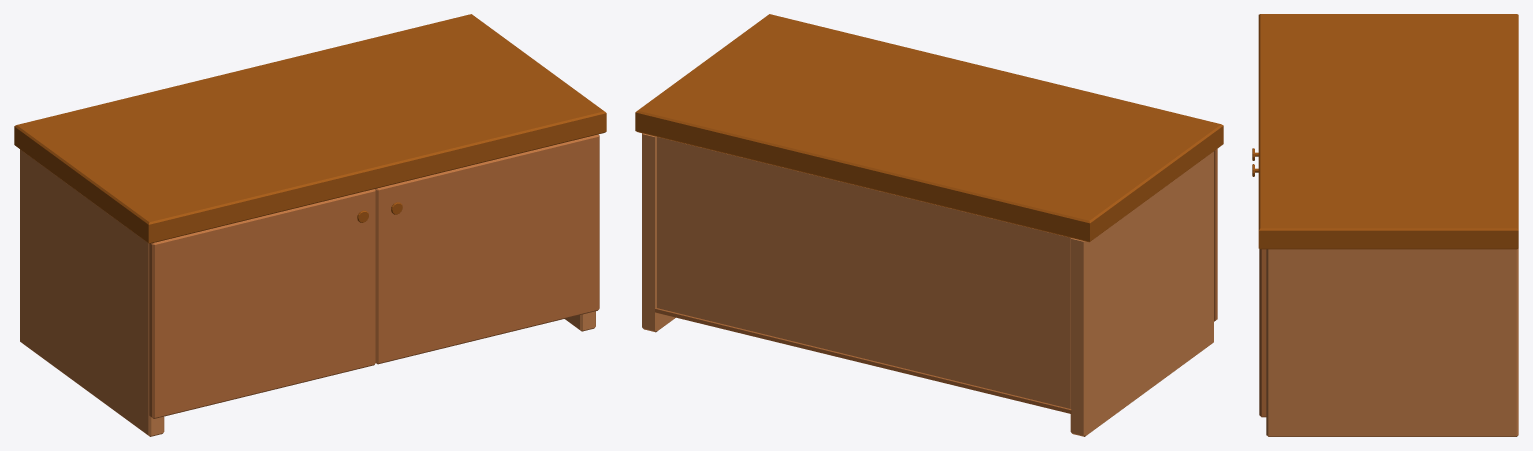
Rendered from DoubleCupboard.glb.
3 renders of one model, left to right at view 1: azimuth 30°, elevation 25°; view 2: azimuth 150°, elevation 25°; view 3: azimuth 270°, elevation 25°, orthographic. The views are drawn at different scales.
Visible parts, largest first — view 1: DoubleCupboard, CupboardDoorL, CupboardDoorR; view 2: DoubleCupboard, CupboardDoorL; view 3: DoubleCupboard, CupboardDoorR.
Part boxes in pixels (box(x1,y1,x2,y2)): DoubleCupboard: box(14, 14, 606, 436); CupboardDoorL: box(149, 189, 375, 418); CupboardDoorR: box(375, 134, 599, 364); DoubleCupboard: box(635, 14, 1223, 436); CupboardDoorL: box(1214, 149, 1217, 321); DoubleCupboard: box(1258, 14, 1518, 436); CupboardDoorR: box(1252, 164, 1266, 417).
Size of the model in its own units: 1.96 by 0.8974 by 1.02.
Materials: 1 (1 with a texture image).
